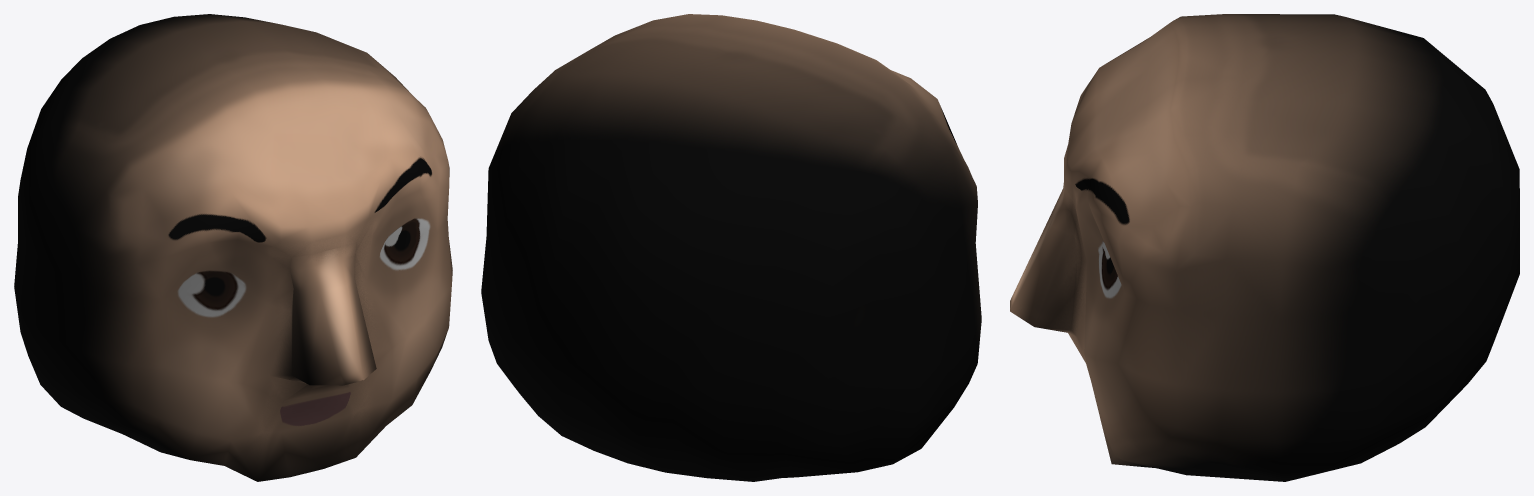
The model's file is cabeca.obj.
3 renders of one model, left to right at view 1: azimuth 30°, elevation 25°; view 2: azimuth 150°, elevation 25°; view 3: azimuth 270°, elevation 25°, orthographic. The views are drawn at different scales.
Visible parts, largest first — view 1: objheadusOBJexport; view 2: objheadusOBJexport; view 3: objheadusOBJexport.
Boxes of the visible parts, bbox=[...] form: objheadusOBJexport: bbox=[14, 14, 452, 481]; objheadusOBJexport: bbox=[481, 14, 981, 481]; objheadusOBJexport: bbox=[1010, 14, 1519, 481].
Bounding box in the file's own units: 300 × 276 × 315.
